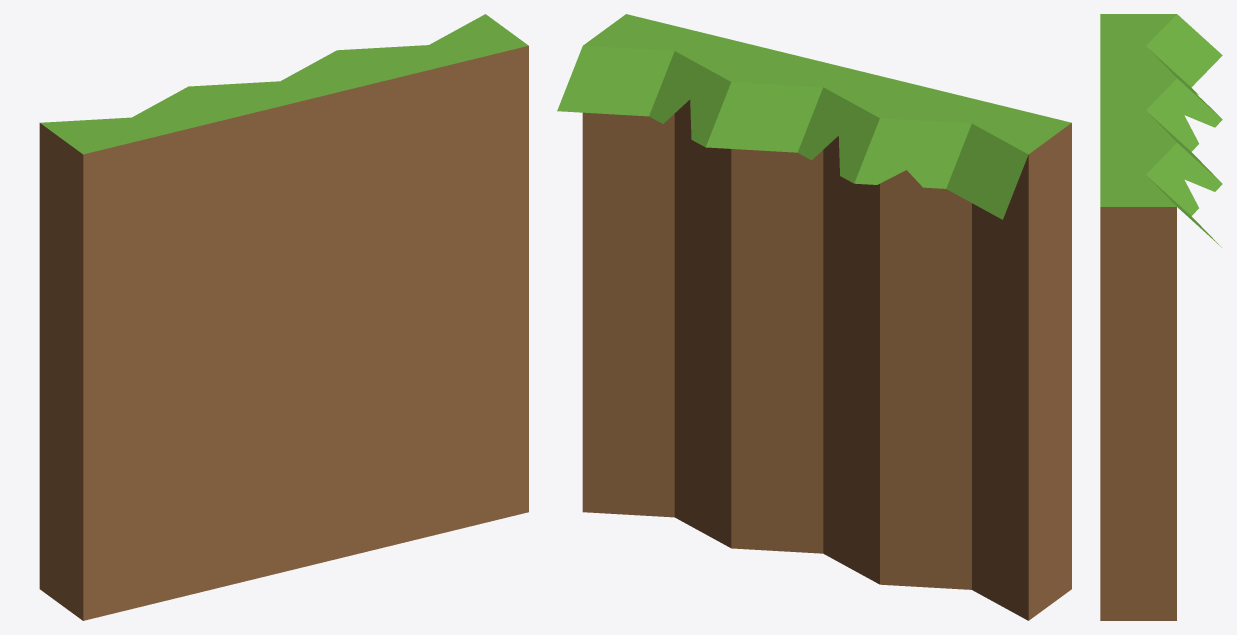
The model's file is cliff_top_rock.glb.
The picture shows the model from 3 angles, left to right: view 1: azimuth 30°, elevation 25°; view 2: azimuth 150°, elevation 25°; view 3: azimuth 270°, elevation 25°; orthographic projection. The views are drawn at different scales.
Parts seen in each view (by area): view 1: cliff_top_rock; view 2: cliff_top_rock; view 3: cliff_top_rock.
Boxes of the visible parts, <box> form: cliff_top_rock: <box>39,14,528,620</box>; cliff_top_rock: <box>557,14,1071,620</box>; cliff_top_rock: <box>1100,14,1222,620</box>.
Size of the model in its own units: 1 by 1 by 0.2685.
